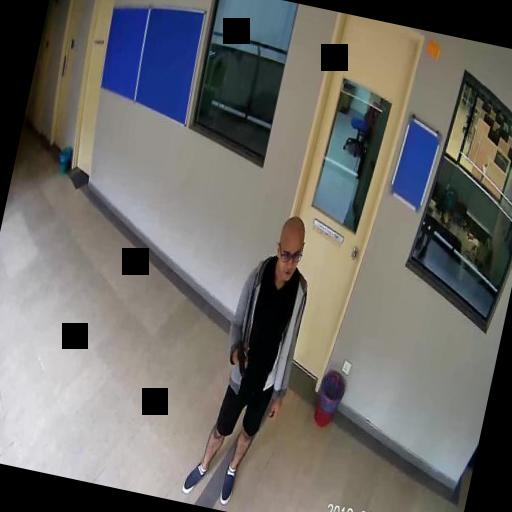Handgun: (228, 336, 252, 379)
